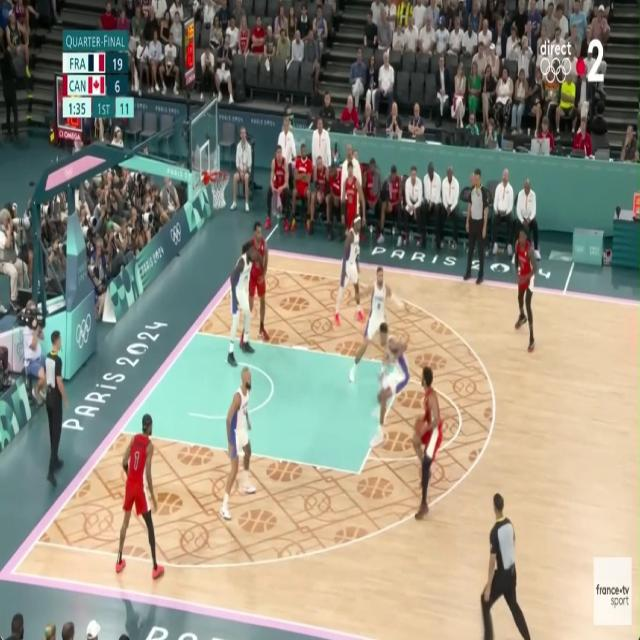ball_handler: (412, 366, 442, 520)
